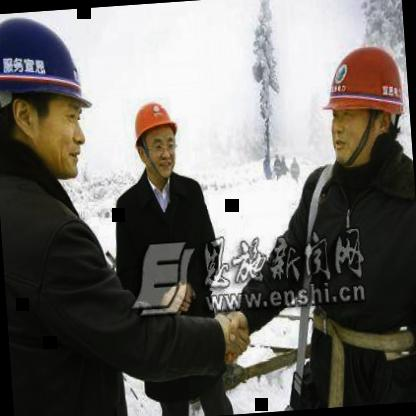helmet: (0, 7, 107, 185), (312, 32, 414, 178), (124, 92, 184, 184)
